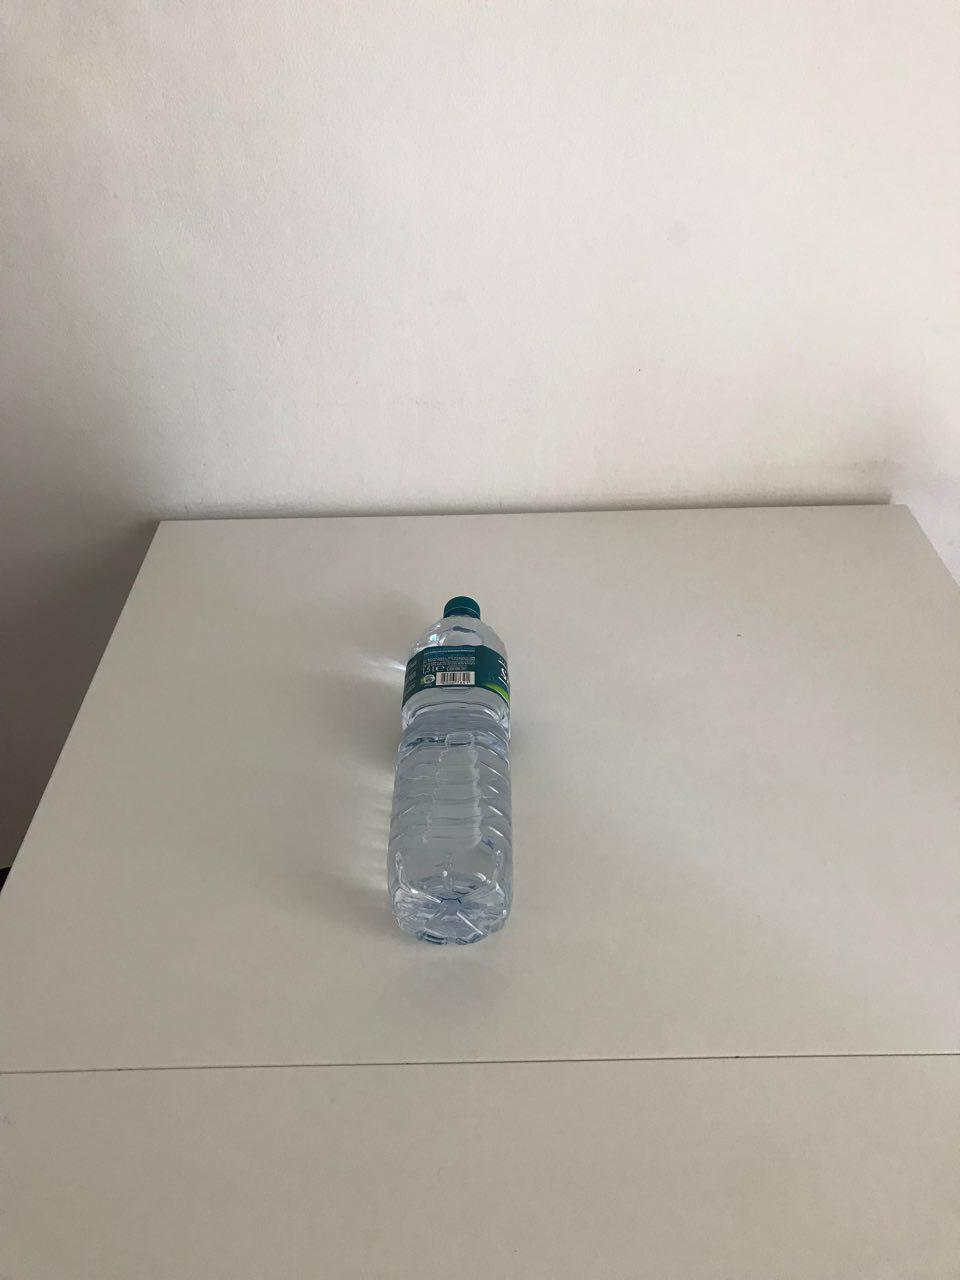san_bernardo: (384, 595, 515, 948)
